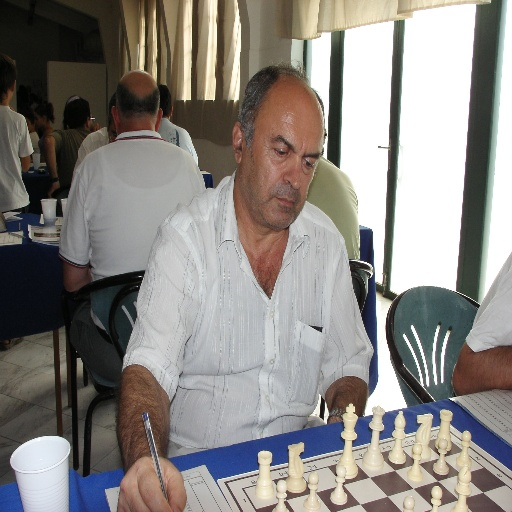hand: (113, 205, 188, 511), (48, 181, 59, 198), (93, 122, 101, 132)
